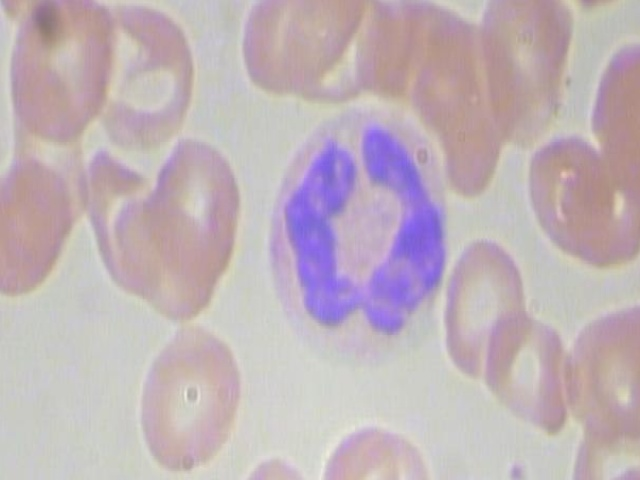RBC: (132, 319, 251, 474), (94, 0, 201, 151), (7, 0, 117, 141), (439, 232, 532, 387), (239, 0, 372, 108), (148, 130, 244, 269), (477, 0, 577, 133), (481, 300, 574, 440), (521, 128, 611, 256), (0, 151, 74, 296), (313, 426, 405, 480), (222, 447, 318, 480), (544, 0, 640, 10)
WBC: (260, 95, 455, 370)
